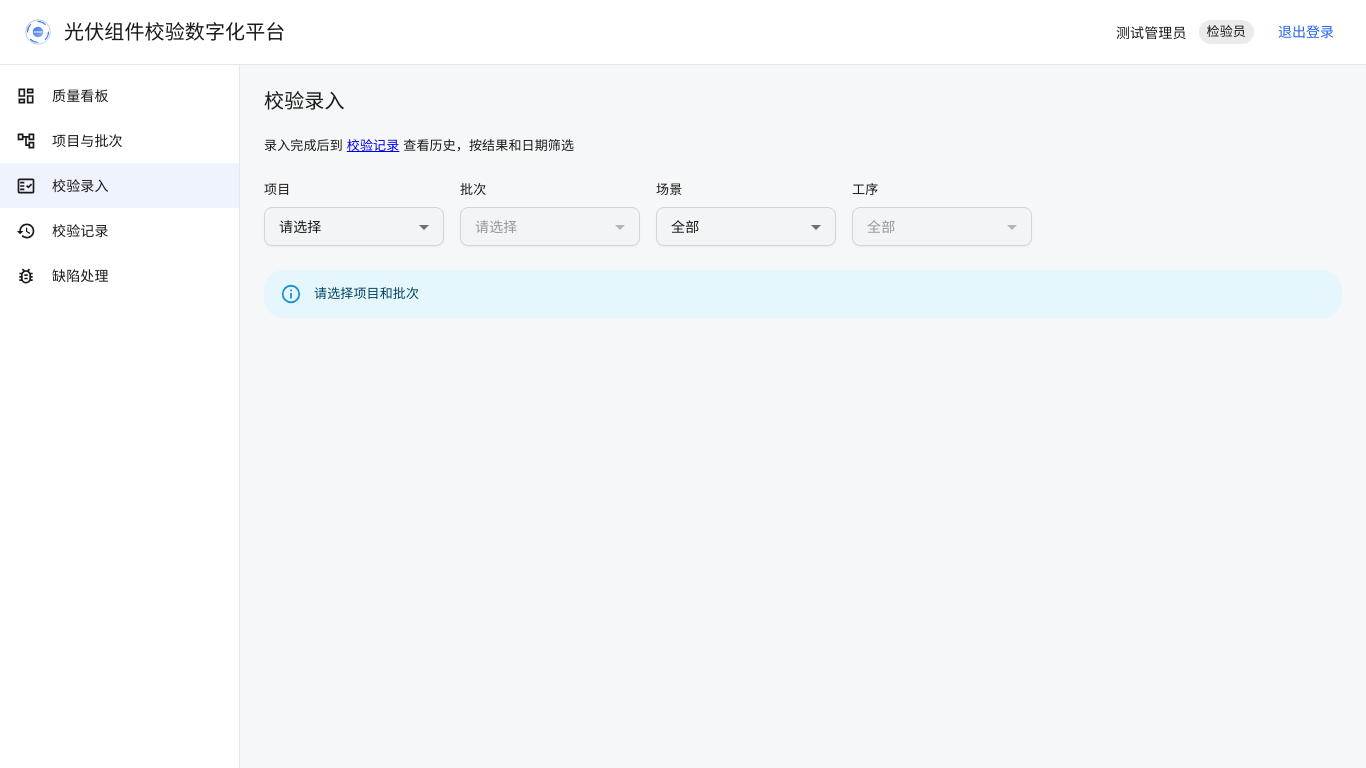
Test case: 数值输入失焦后显示服务端判定结果
Click the dropdown named "项目" at [300, 226], box [279, 217, 321, 236]
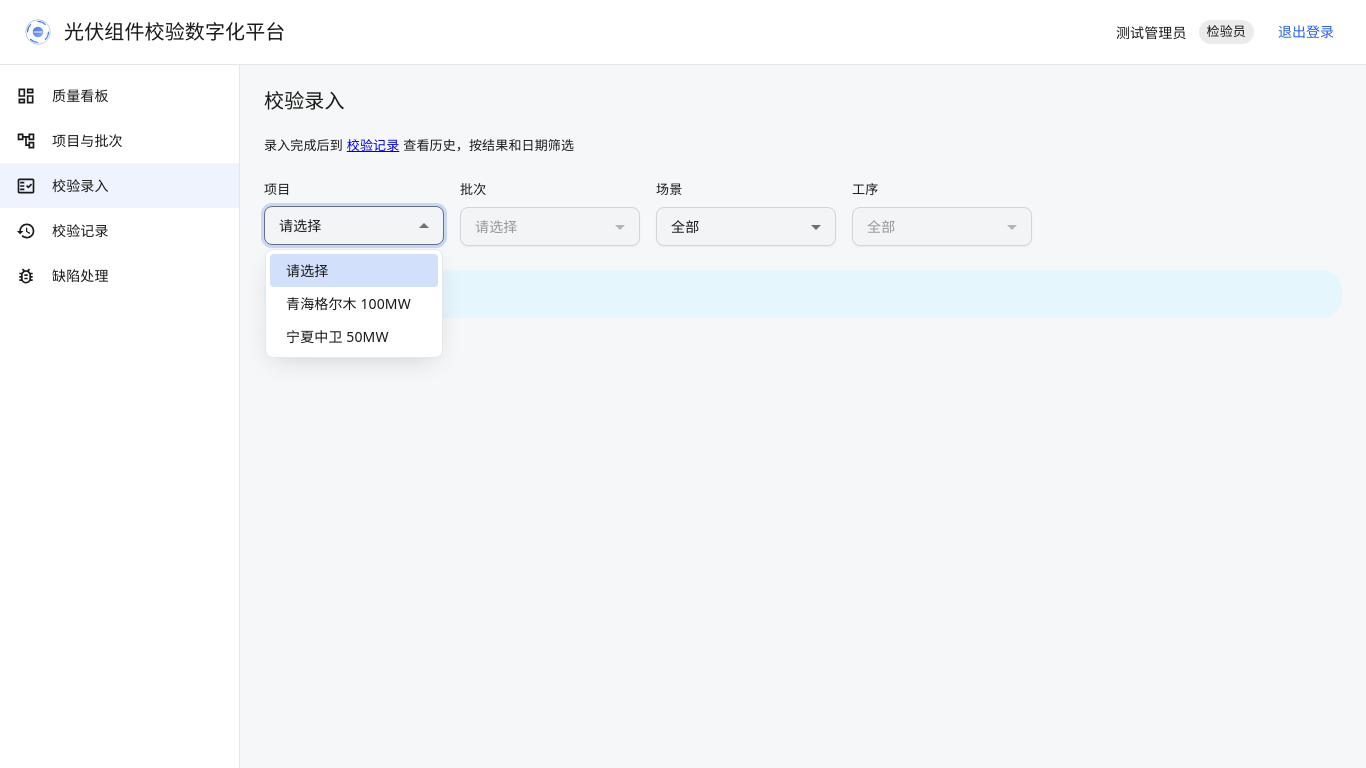
Click the option "青海格尔木 100MW" at [348, 304], box [286, 294, 411, 313]
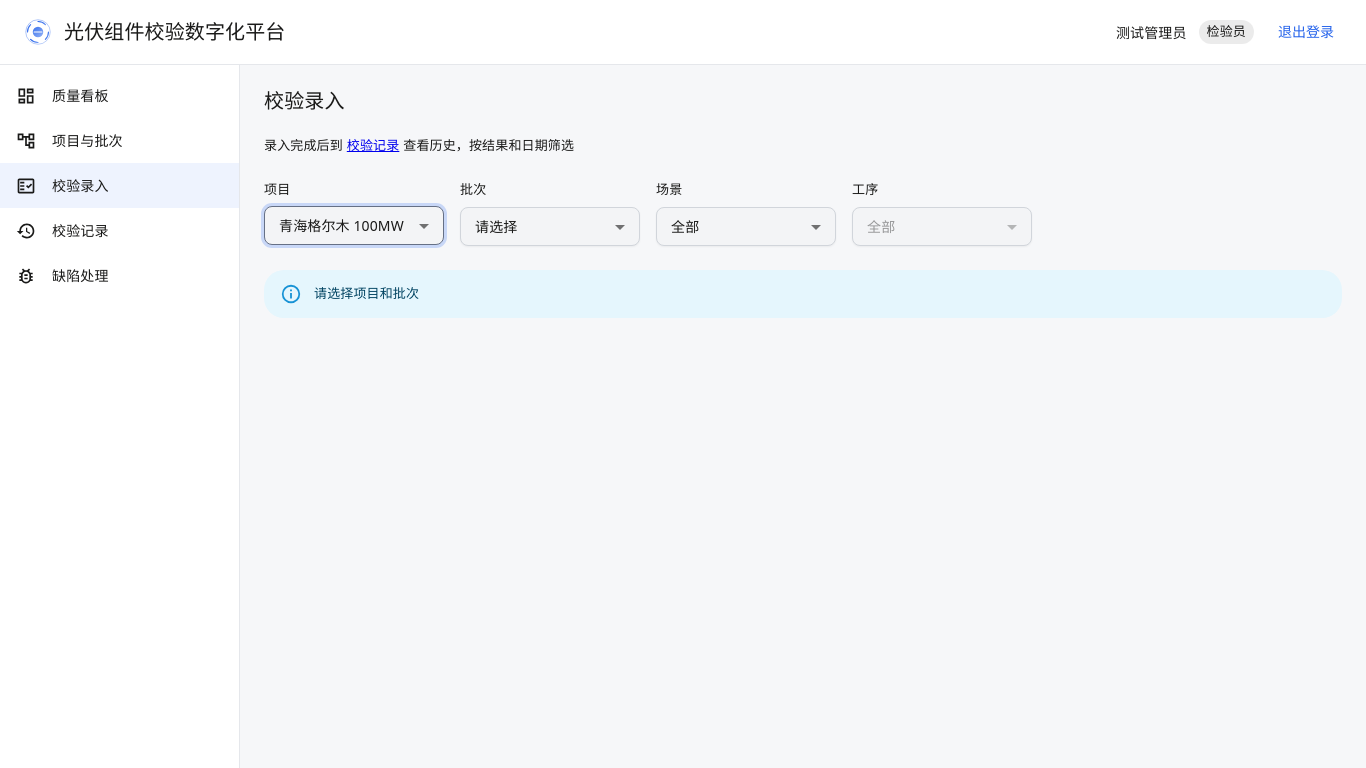
Click the dropdown named "批次" at [496, 226], box [475, 217, 517, 236]
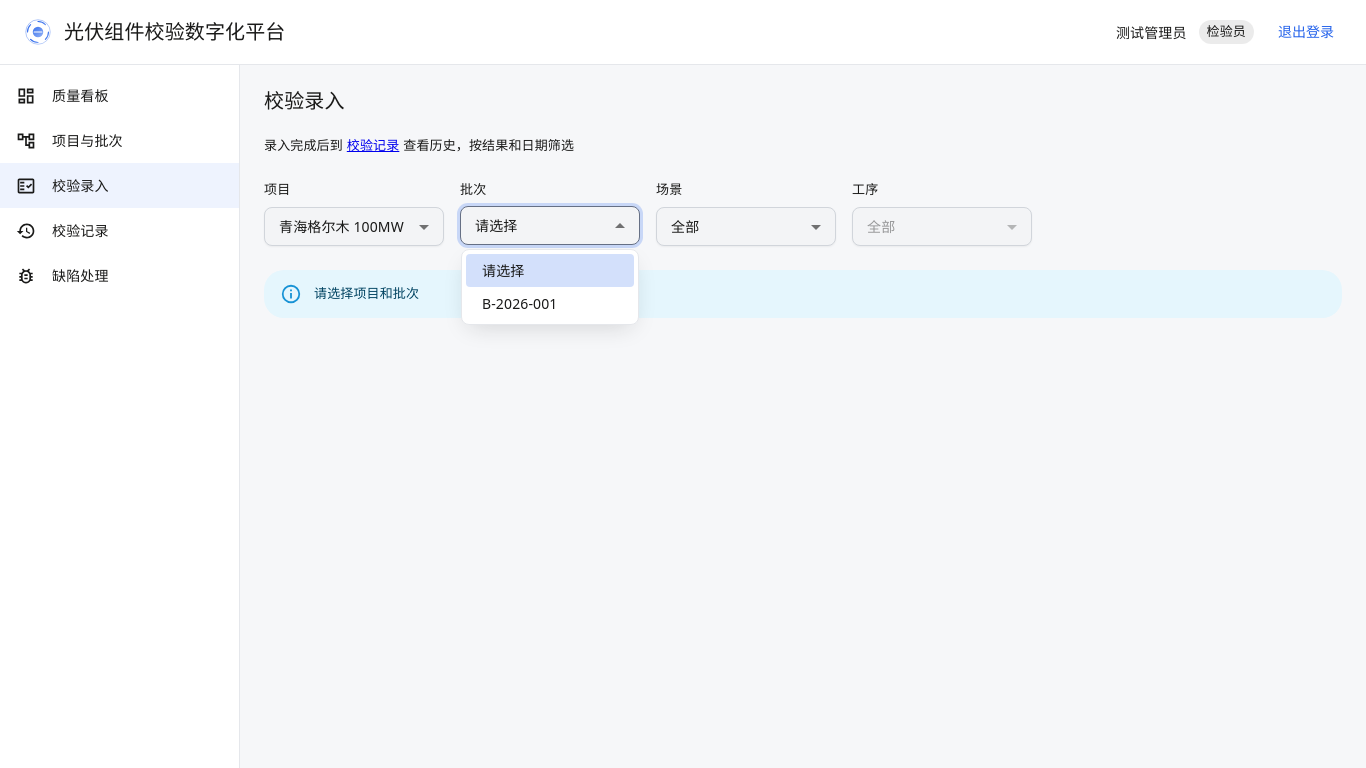
Click the option "B-2026-001" at [520, 304], box [482, 294, 558, 313]
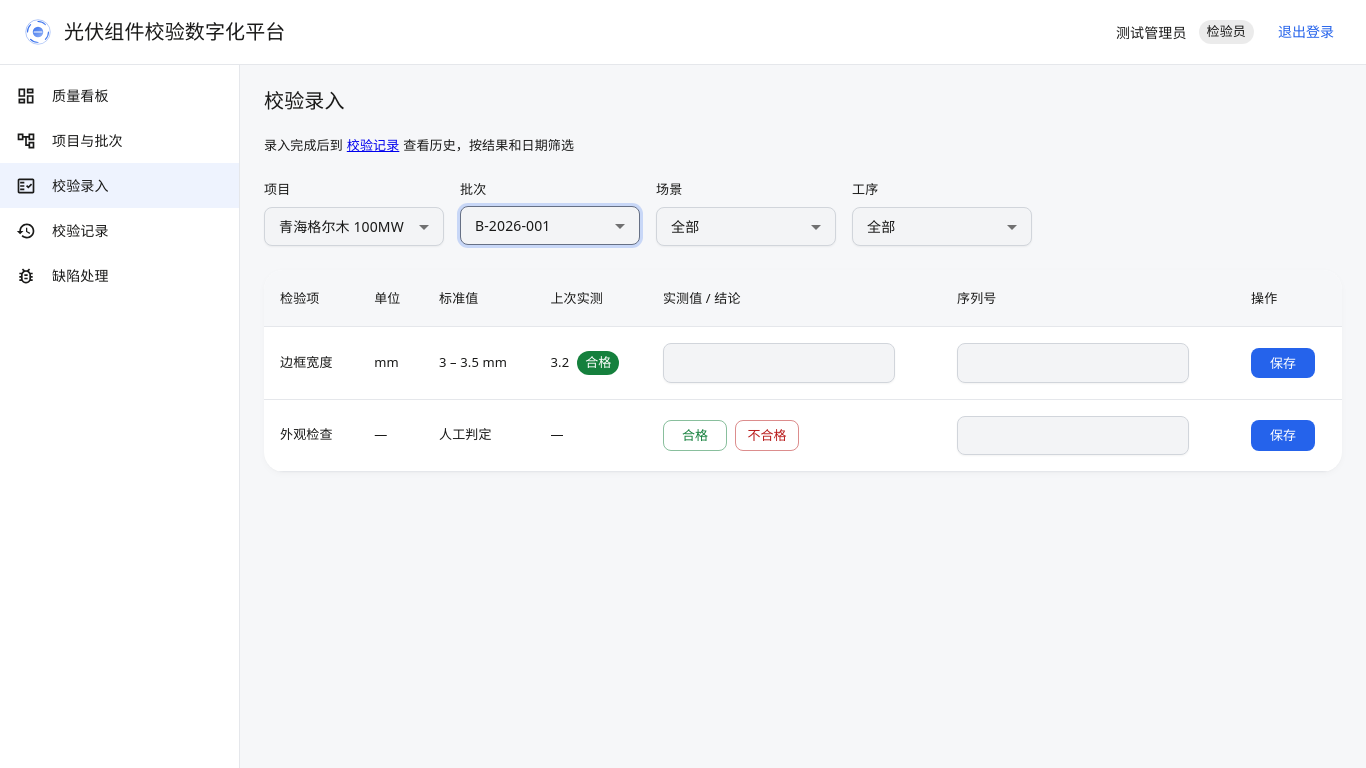
Type "3.9" into the number field named "实测值 FRAME-01" at [779, 363], box [664, 344, 894, 382]
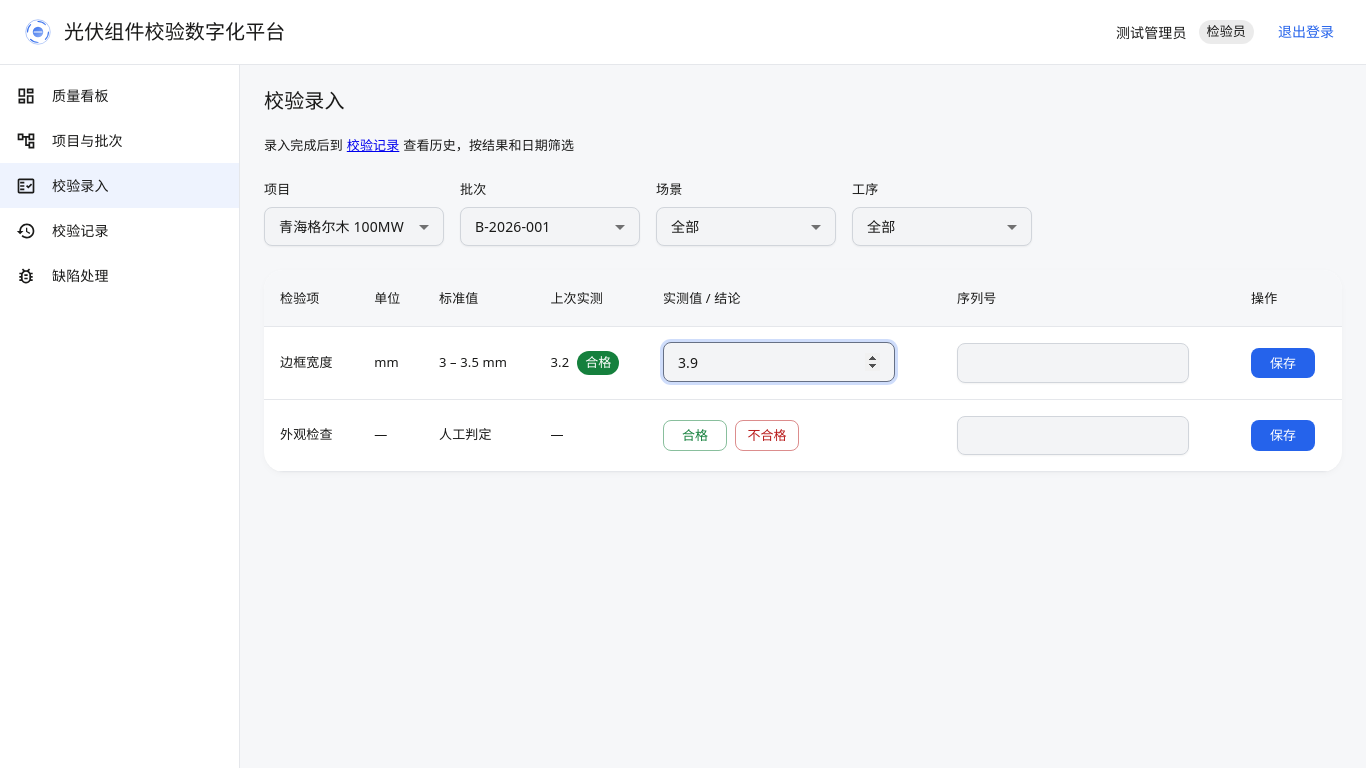
Press Tab
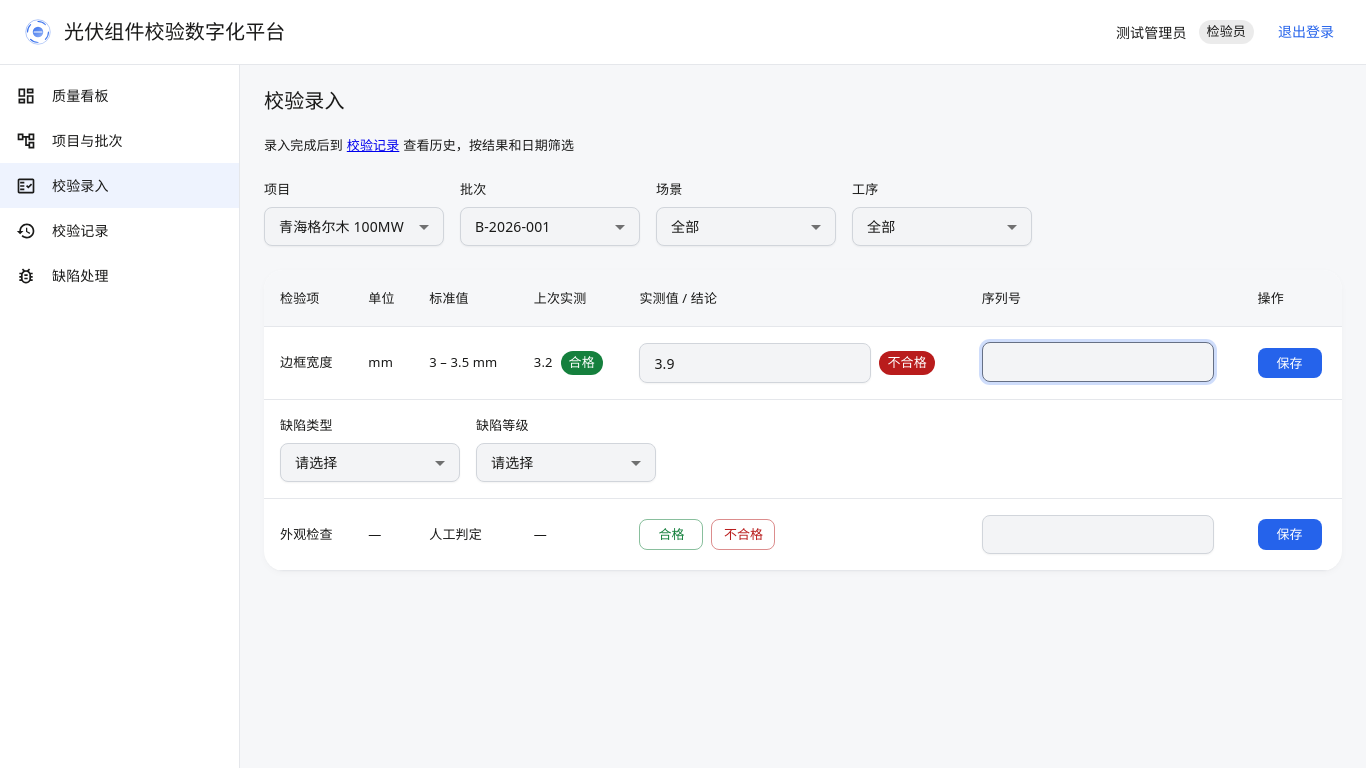
Check: the element named "判定结果 不合格" reads "不合格", box [887, 353, 927, 371]
